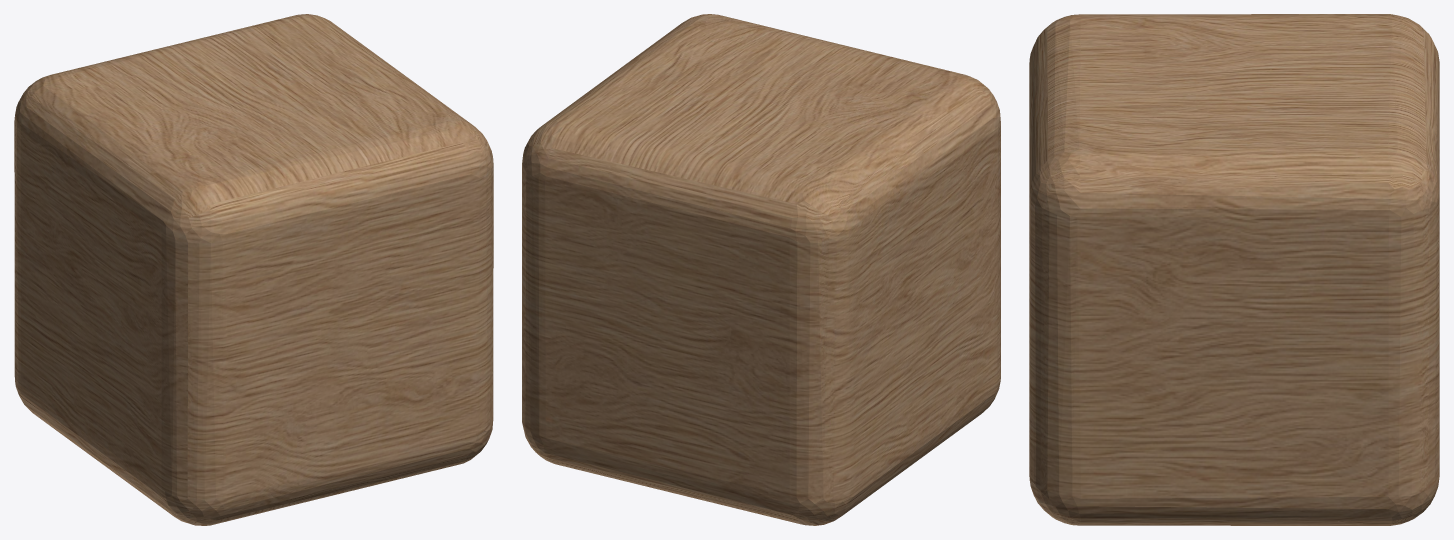
The model's file is CubeShape.fbx.
The picture shows the model from 3 angles, left to right: view 1: azimuth 30°, elevation 25°; view 2: azimuth 150°, elevation 25°; view 3: azimuth 270°, elevation 25°; orthographic projection. The views are drawn at different scales.
Parts seen in each view (by area): view 1: Cube; view 2: Cube; view 3: Cube.
Boxes of the visible parts, x1,y1,x2,y2 form: Cube: (14, 14, 493, 525); Cube: (522, 14, 1000, 525); Cube: (1029, 14, 1439, 525).
Bounding box in the file's own units: 200 × 200 × 200.
1 material, 1 textured.
